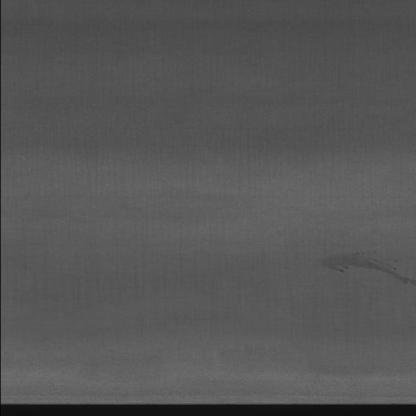water_spot: (304, 247, 414, 288)
